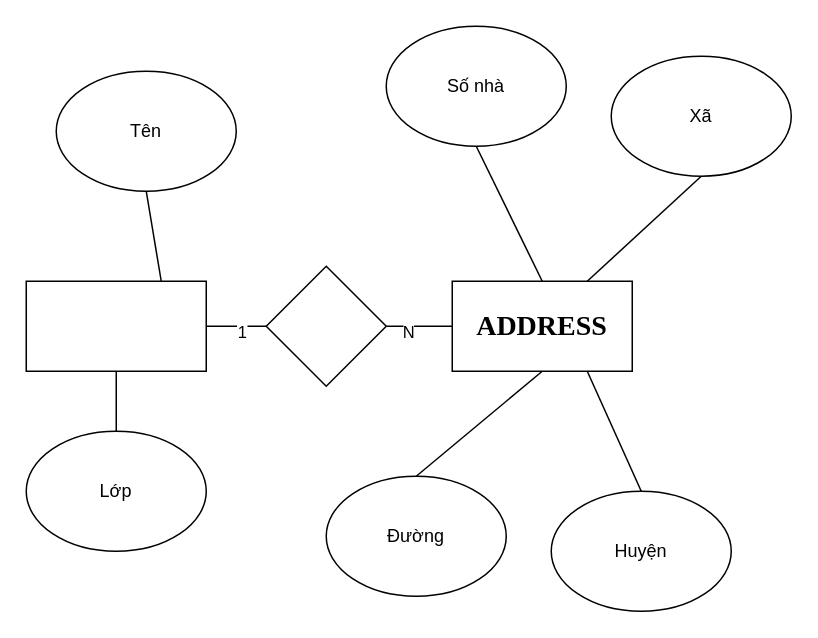
The diagram is 818 pixels wide and 638 high, and some of its shapes have lost their labels. The shapes that lost their labels are listed below. From the top down, each one's centre as x and y in pixels, then its label:
At point (115, 325): "STUDENTS".
At point (325, 325): "Sống ở".
